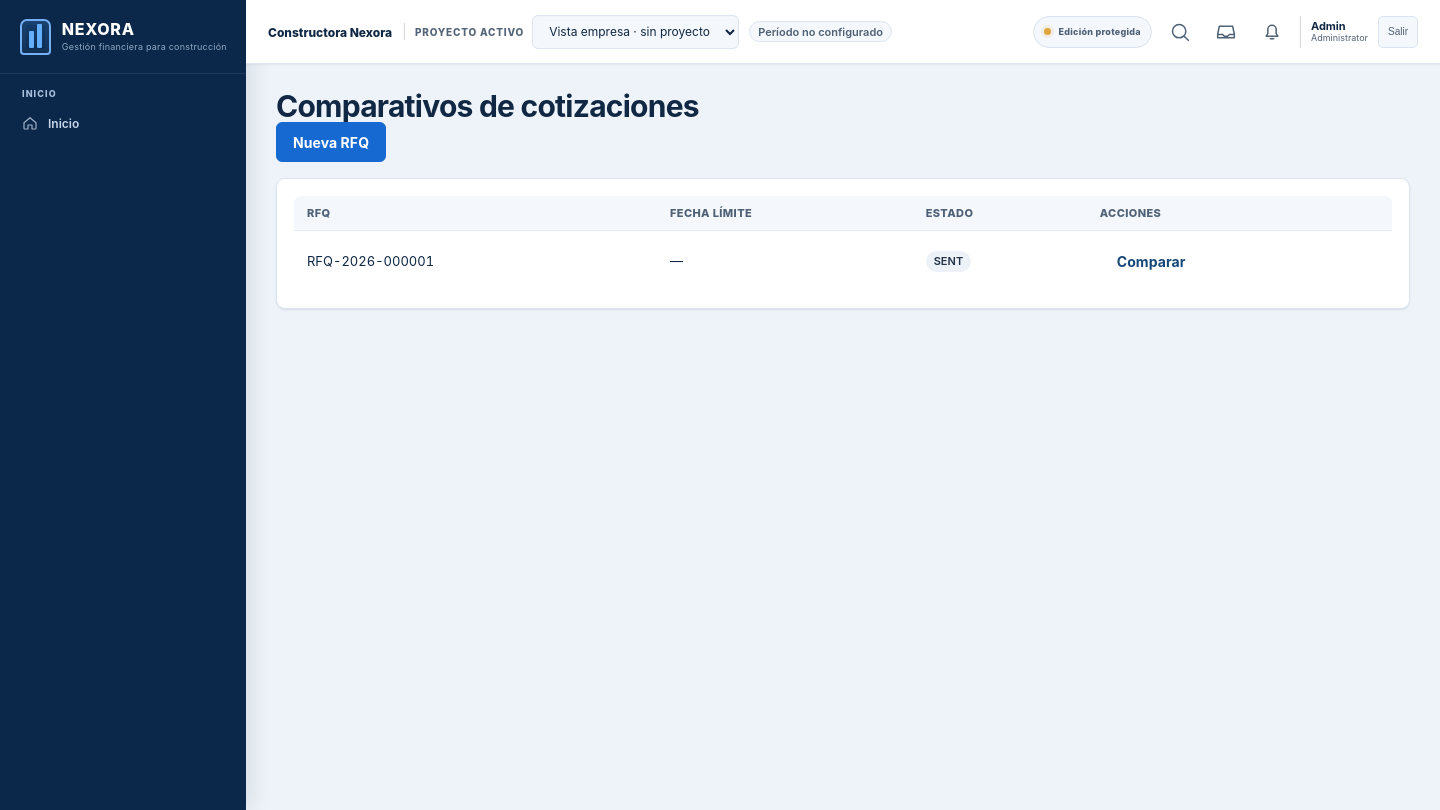
Test: BidComparisonPage › lists real RFQs and shows the quotation comparison for the selected one
This screenshot has width=1440, height=810.
Check: the text "RFQ-2026-000001" is shown, box [294,231,657,292]
Click the button "Comparar": point(1151, 261) [1100,241,1202,281]
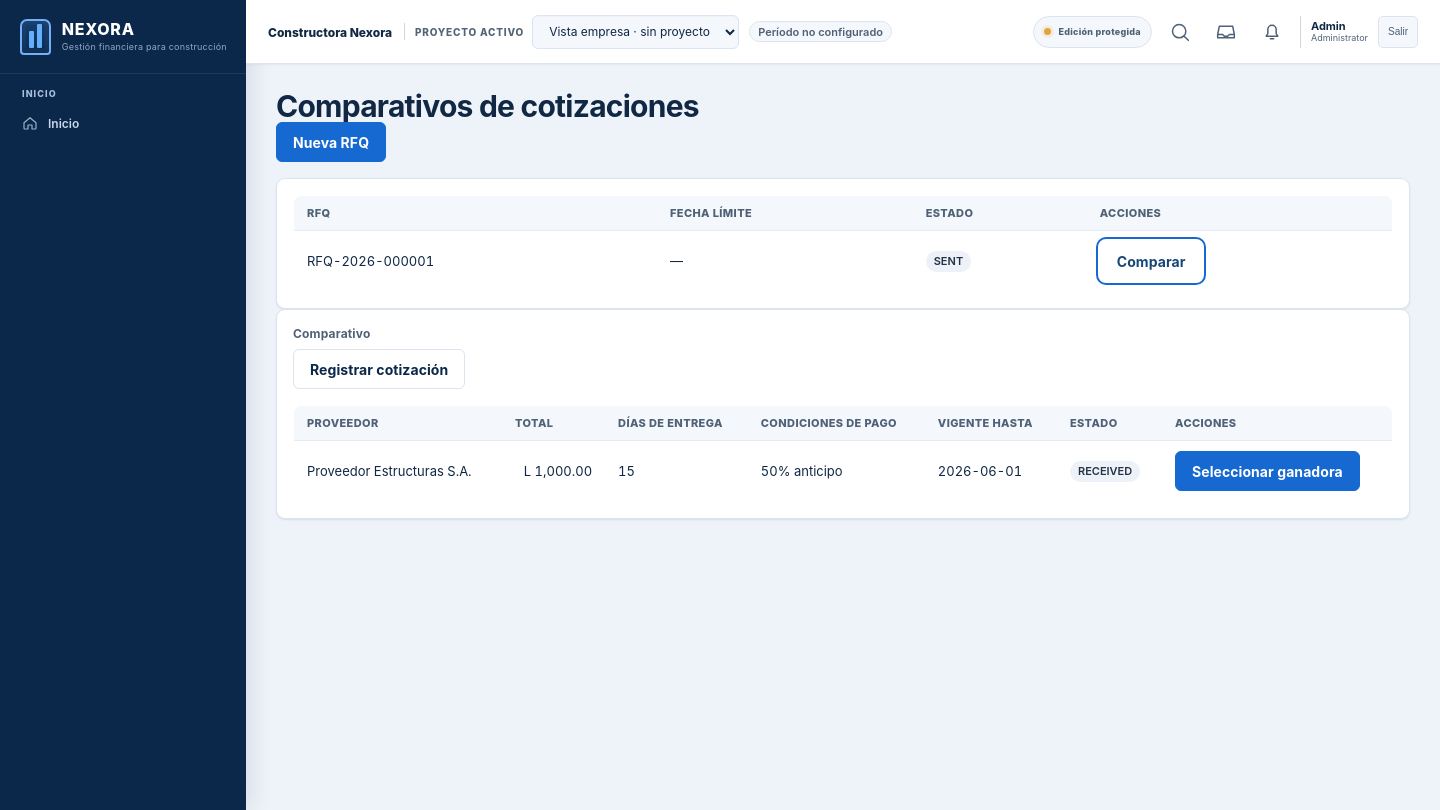
Check: the text "L 1,000.00" is shown, box [502,441,605,502]
Check: the text "15" is shown, box [605,441,748,502]
Check: the text "50% anticipo" is shown, box [748,441,925,502]
